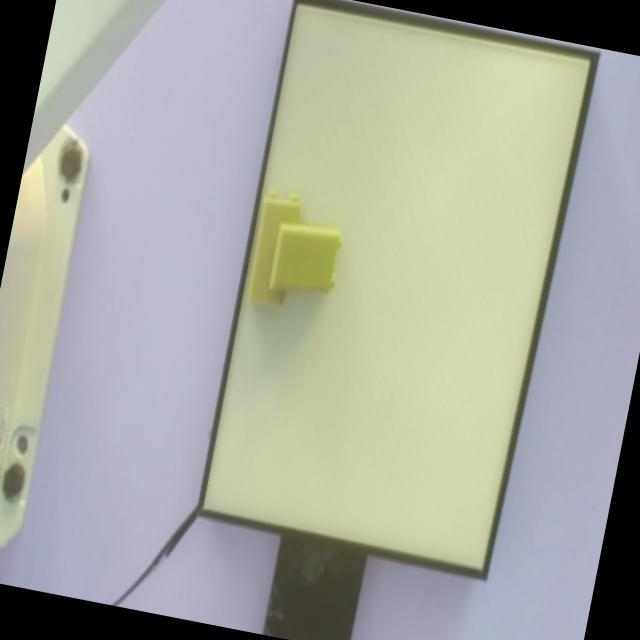bateria: (268, 222, 343, 293)
mesa: (193, 0, 601, 582)
